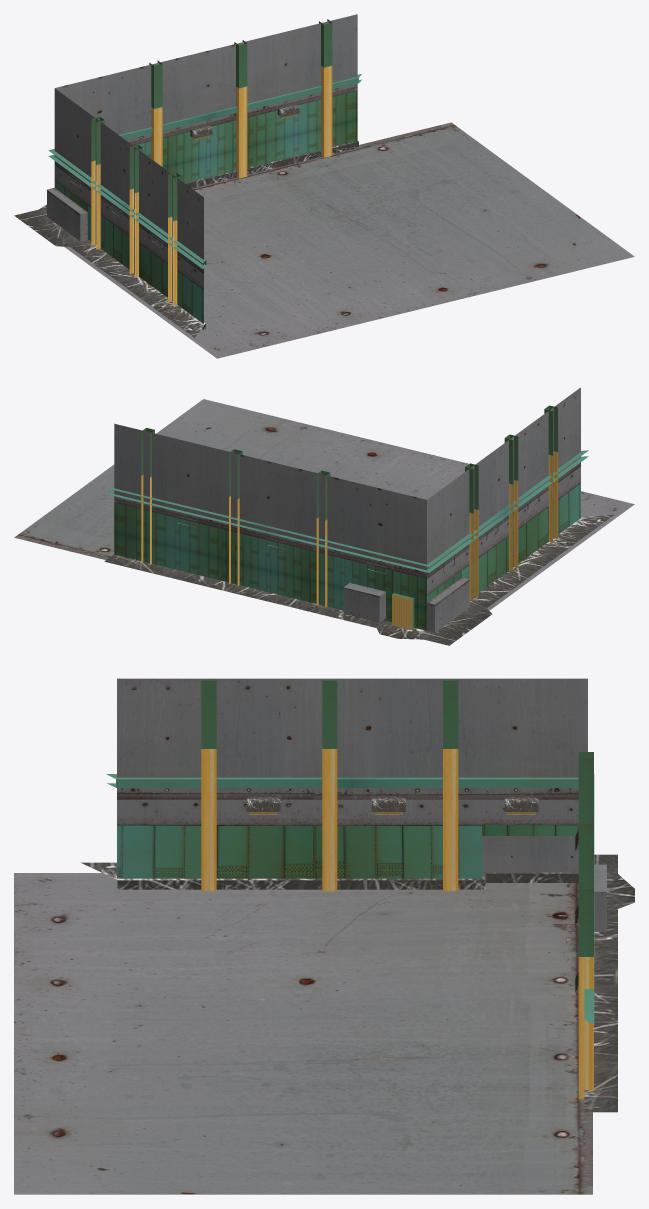
The model's file is factory7.fbx.
The picture shows the model from 3 angles, top to bottom: view 1: azimuth 30°, elevation 25°; view 2: azimuth 150°, elevation 25°; view 3: azimuth 270°, elevation 25°; orthographic projection. The views are drawn at different scales.
Parts seen in each view (by area): view 1: walls, wallstrim, wallstrim2, pillar3, pillar2, pillar5, pillar4, pillar6, pillar1; view 2: walls, wallstrim, wallstrim2, pillar5, pillar4, pillar6, pillar1, pillar2, pillar3; view 3: walls, wallstrim, wallstrim2, pillar6, pillar4, pillar5, pillar3, pillar2, pillar1.
Boxes of the visible parts, x1,y1,x2,y2 form: walls: (47,14,634,358); wallstrim: (14,141,358,337); wallstrim2: (48,74,361,268); pillar3: (319,19,332,157); pillar2: (234,40,247,178); pillar5: (129,144,142,277); pillar4: (91,116,104,249); pillar6: (168,172,181,305); pillar1: (149,60,162,166); walls: (14,387,634,632); wallstrim: (104,514,613,645); wallstrim2: (106,450,588,572); pillar5: (504,434,518,571); pillar4: (465,463,478,600); pillar6: (544,405,557,542); pillar1: (316,470,330,607); pillar2: (229,449,242,585); pillar3: (141,428,154,564); walls: (14,678,606,1194); wallstrim: (81,854,634,1112); wallstrim2: (106,774,594,1024); pillar6: (201,680,216,891); pillar4: (443,680,458,891); pillar5: (322,680,337,891); pillar3: (578,882,593,1099); pillar2: (578,817,593,882); pillar1: (578,752,593,817).
Bounding box in the file's own units: 228 × 68.64 × 181.
Materials: 1 (1 with a texture image).
